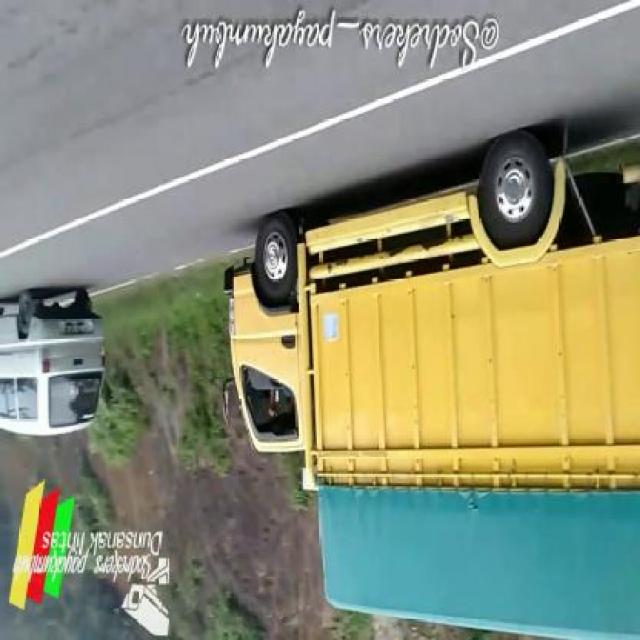truck: (226, 137, 640, 640)
